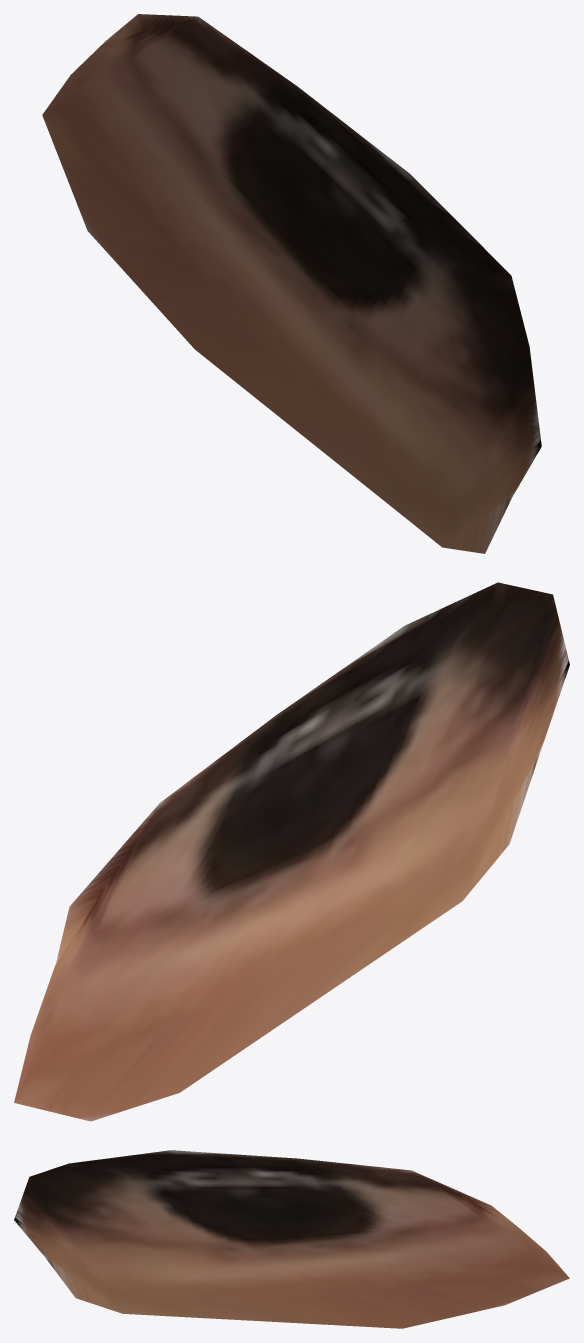
File: righteye.glb
The picture shows the model from 3 angles, top to bottom: view 1: azimuth 30°, elevation 25°; view 2: azimuth 150°, elevation 25°; view 3: azimuth 270°, elevation 25°; orthographic projection. The views are drawn at different scales.
Parts seen in each view (by area): view 1: 平面; view 2: 平面; view 3: 平面.
Part boxes in pixels (x1=…): 平面: x1=42, y1=14, x2=541, y2=553; 平面: x1=14, y1=582, x2=569, y2=1121; 平面: x1=14, y1=1150, x2=569, y2=1328.
Bounding box in the file's own units: 0.00273 × 0.0123 × 0.0356.
1 material, 1 textured.
